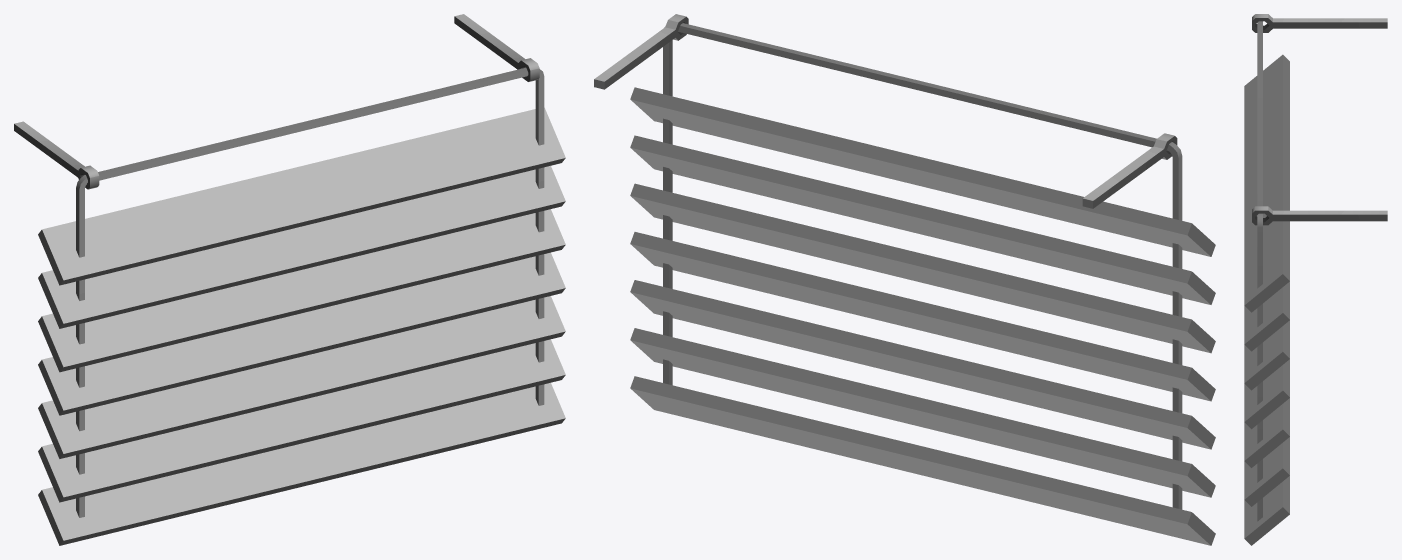
File: rollo.fbx
3 views of the same model, side by side, from view 1: azimuth 30°, elevation 25°; view 2: azimuth 150°, elevation 25°; view 3: azimuth 270°, elevation 25° (orthographic). The views are drawn at different scales.
Parts seen in each view (by area): view 1: Cube.001; view 2: Cube.001; view 3: Cube.001.
Boxes of the visible parts, x1,y1,x2,y2 form: Cube.001: [14, 14, 565, 545]; Cube.001: [594, 14, 1215, 545]; Cube.001: [1244, 14, 1387, 545].
Bounding box in the file's own units: 140 × 96.57 × 38.5.
